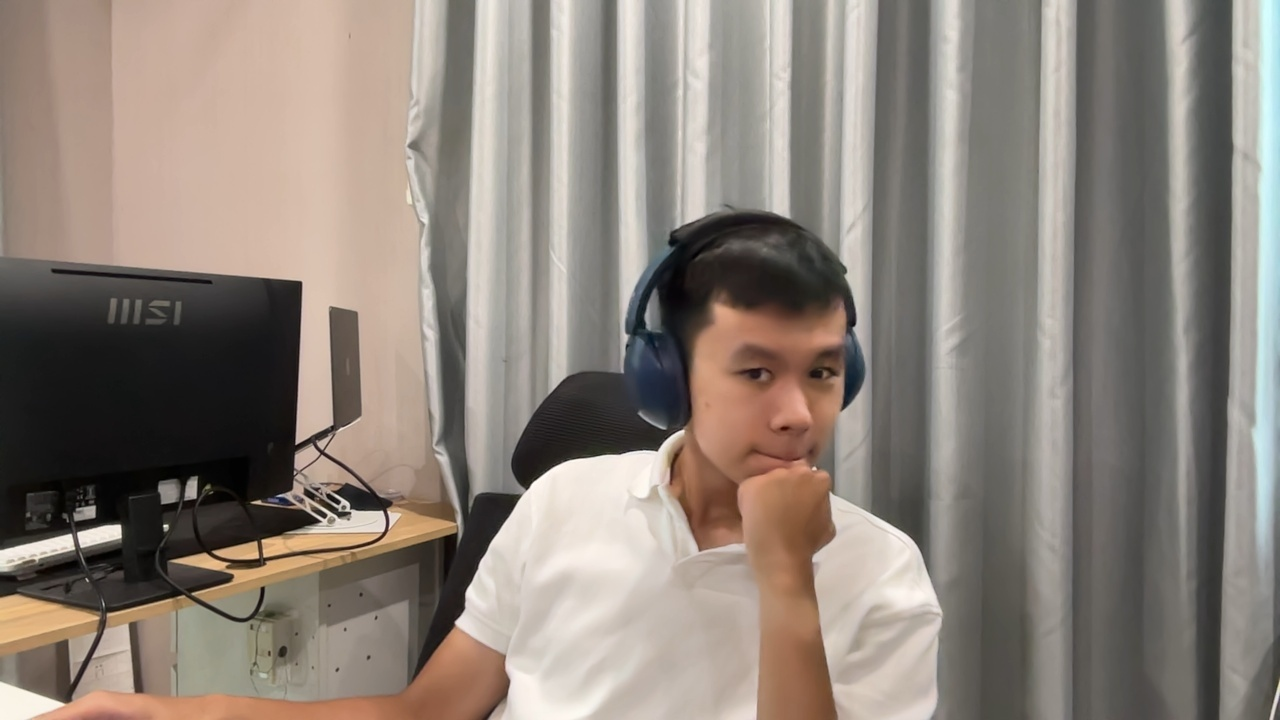over_ear: (620, 207, 866, 436), (619, 208, 866, 436)
